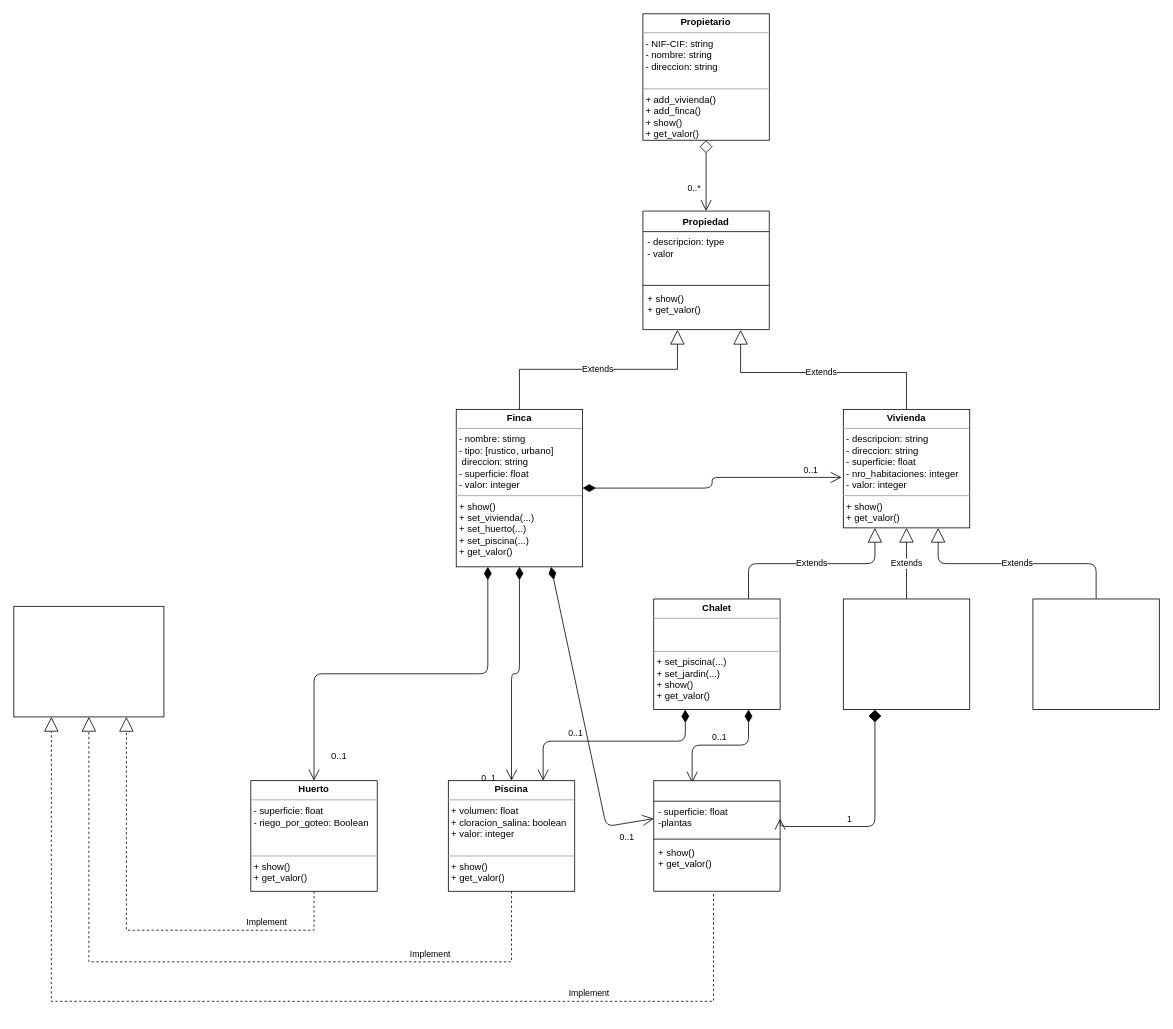
The diagram is 1173 pixels wide and 1029 high, and some of its shapes have lost their labels. Here are the shapes that lost their labels. From the top down, the box of each, then its label:
(13, 606, 164, 717): <<Interface>> Valorable + get_valor(): Integer + show(): String
(843, 598, 970, 710): Adosado + show() + set_jardin(...) + get_valor()
(1032, 598, 1159, 710): Apartamento - balcon: boolean + show()
(653, 780, 780, 891): Jardin
